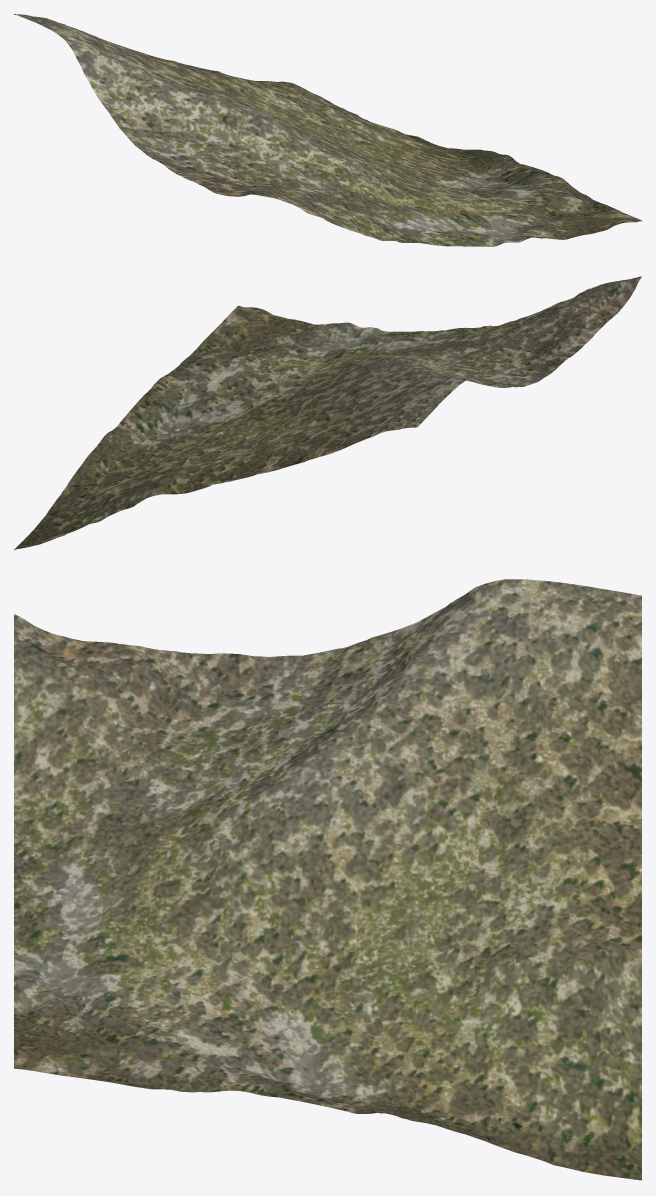
3 views of the same model, one above another, from view 1: azimuth 30°, elevation 25°; view 2: azimuth 150°, elevation 25°; view 3: azimuth 270°, elevation 25° (orthographic). The views are drawn at different scales.
Bounding box in the file's own units: 500 × 276 × 481.
Materials: 1 (1 with a texture image).
